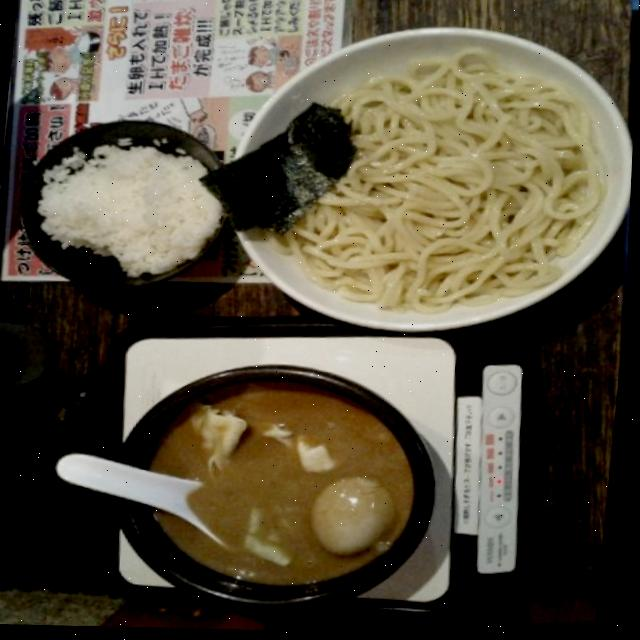米饭主食: (0, 116, 240, 303)
